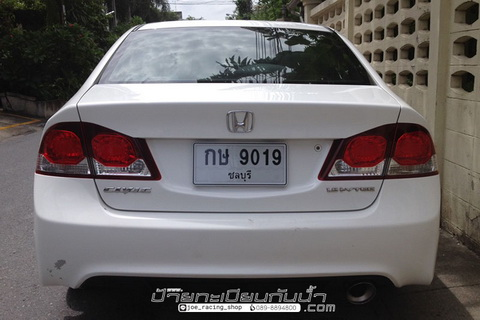numplate: (190, 140, 289, 188)
